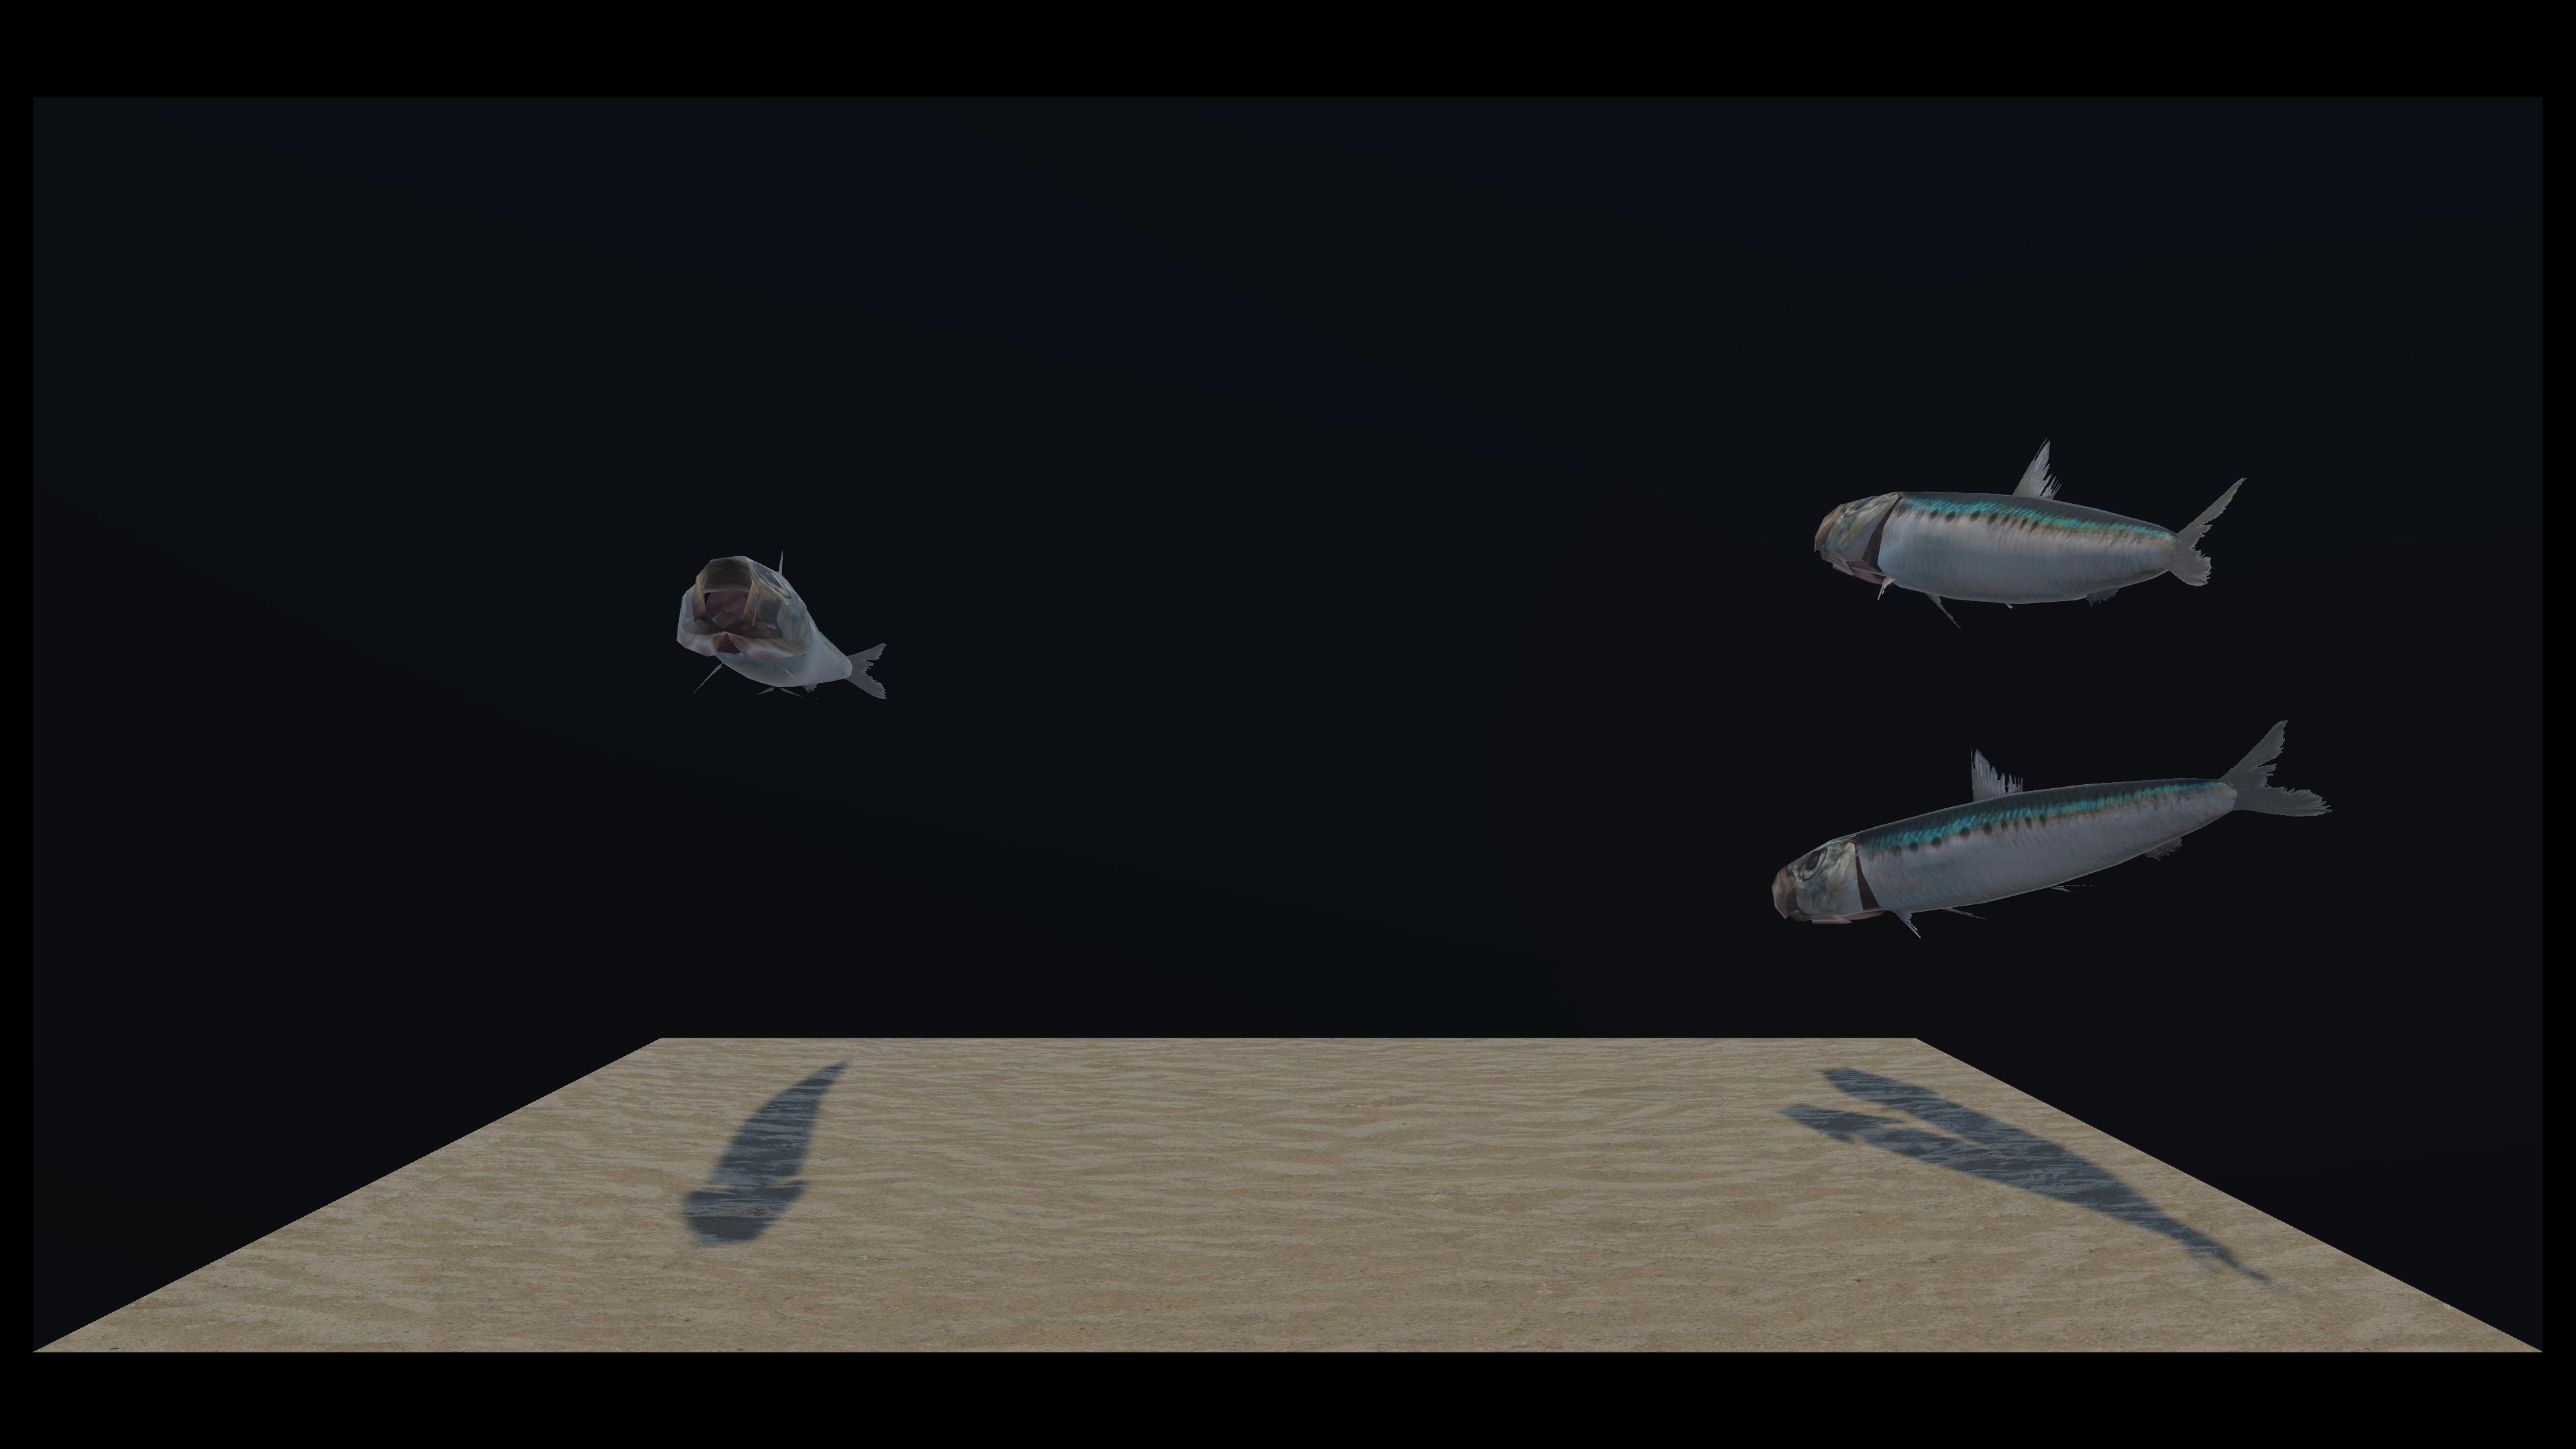Sardine_Front: (909, 481, 2337, 948), (844, 455, 2245, 630), (678, 343, 879, 711)
